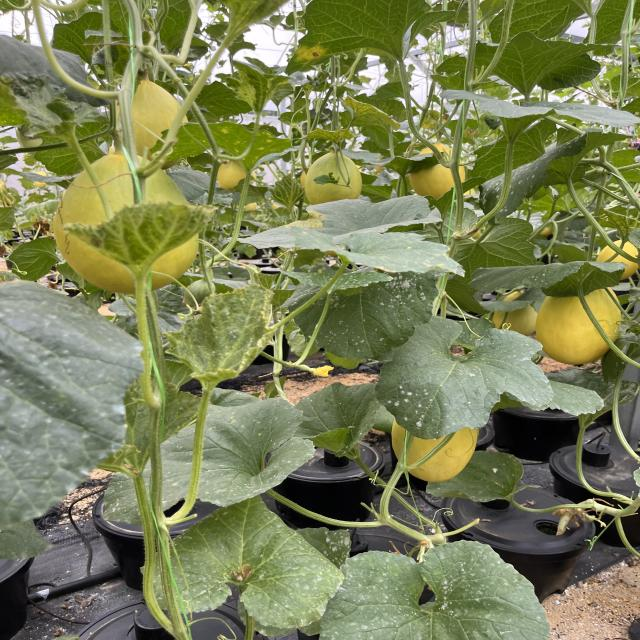SLCV: (161, 286, 278, 382)
alternaria leaf blight: (288, 2, 434, 70), (228, 64, 292, 110)
downy mildew: (0, 272, 163, 568), (98, 390, 316, 529), (311, 538, 561, 640), (168, 494, 348, 630), (291, 379, 394, 458), (469, 256, 628, 306), (158, 122, 305, 174), (338, 92, 410, 153)
healthy: (382, 316, 546, 439), (244, 196, 444, 267), (475, 22, 602, 97), (33, 110, 117, 180), (426, 449, 525, 502), (466, 0, 589, 36), (588, 0, 640, 51), (7, 237, 61, 280)
powdery mildew: (284, 270, 441, 364)
